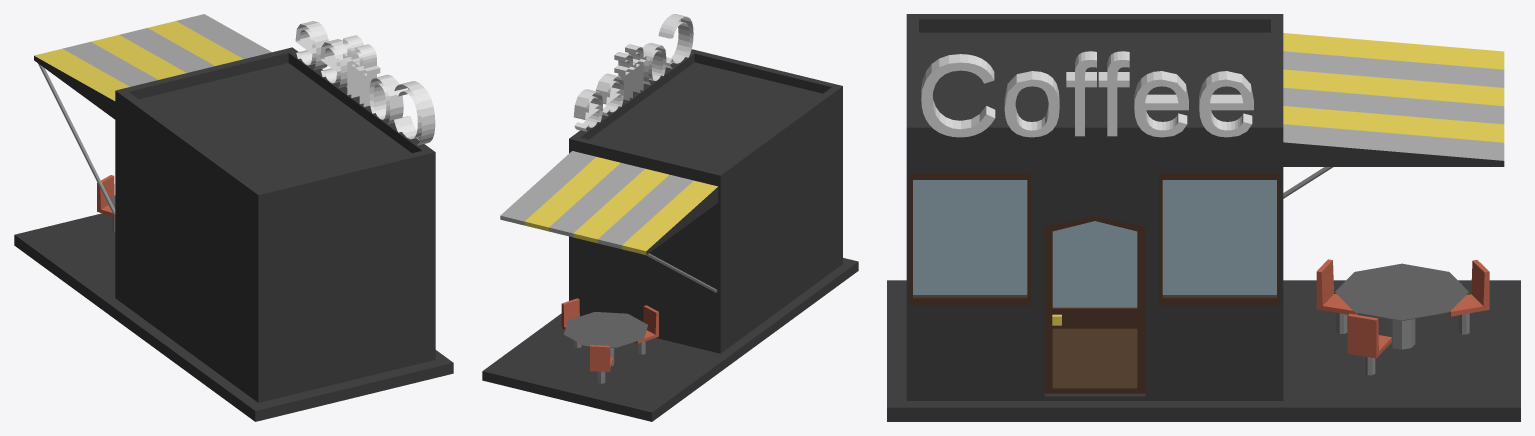
File: coffe.glb
The picture shows the model from 3 angles, left to right: view 1: azimuth 30°, elevation 25°; view 2: azimuth 150°, elevation 25°; view 3: azimuth 270°, elevation 25°; orthographic projection. The views are drawn at different scales.
Visible parts, largest first — view 1: coffe; view 2: coffe; view 3: coffe.
Boxes of the visible parts, bbox=[...] form: coffe: bbox=[14, 14, 453, 421]; coffe: bbox=[482, 14, 858, 421]; coffe: bbox=[887, 14, 1520, 421].
Bounding box in the file's own units: 2.97 × 3.91 × 6.26.
Materials: 1 (1 with a texture image).
